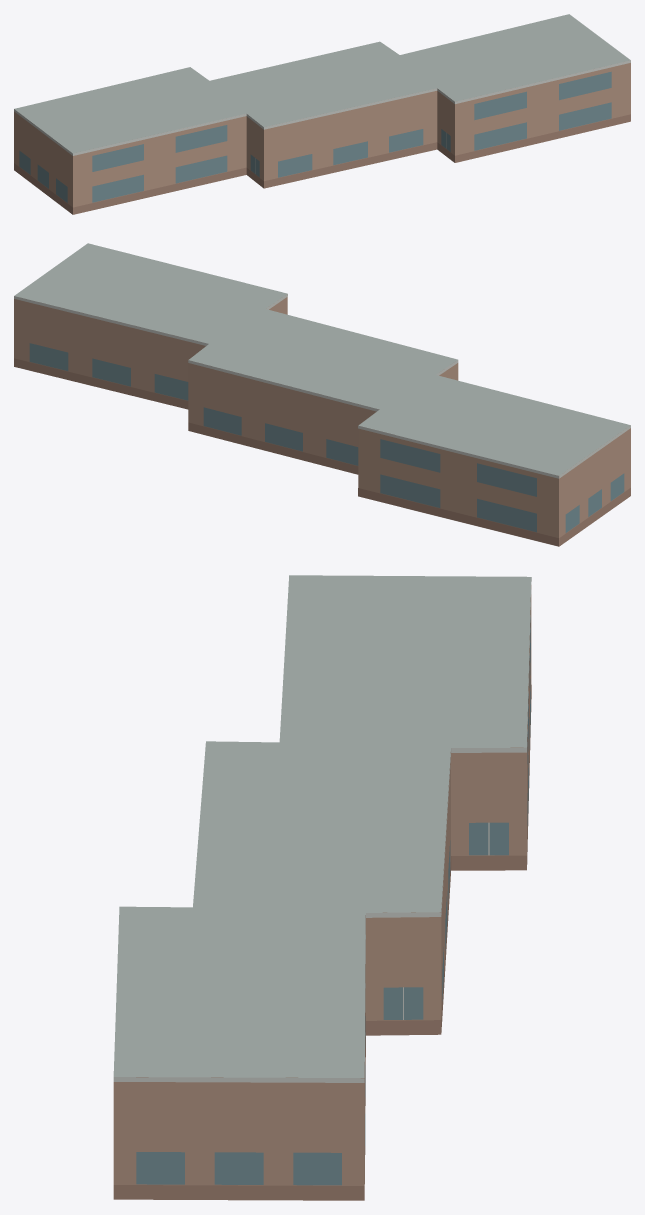
File: survey-upis-32963395.glb
The picture shows the model from 3 angles, top to bottom: view 1: azimuth 30°, elevation 25°; view 2: azimuth 150°, elevation 25°; view 3: azimuth 270°, elevation 25°; orthographic projection. The views are drawn at different scales.
Parts seen in each view (by area): view 1: survey-upis-32963395.tmp; view 2: survey-upis-32963395.tmp; view 3: survey-upis-32963395.tmp.
Part boxes in pixels (box(x1,y1,x2,y2)): survey-upis-32963395.tmp: box(14, 14, 630, 214); survey-upis-32963395.tmp: box(14, 243, 630, 546); survey-upis-32963395.tmp: box(113, 575, 531, 1200).
Bounding box in the file's own units: 53.67 × 6.1 × 18.85.
